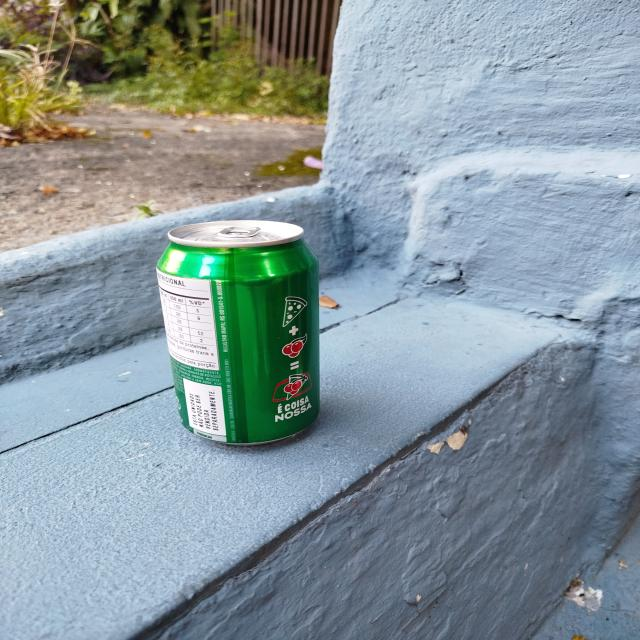Guarana: (158, 218, 326, 444)
